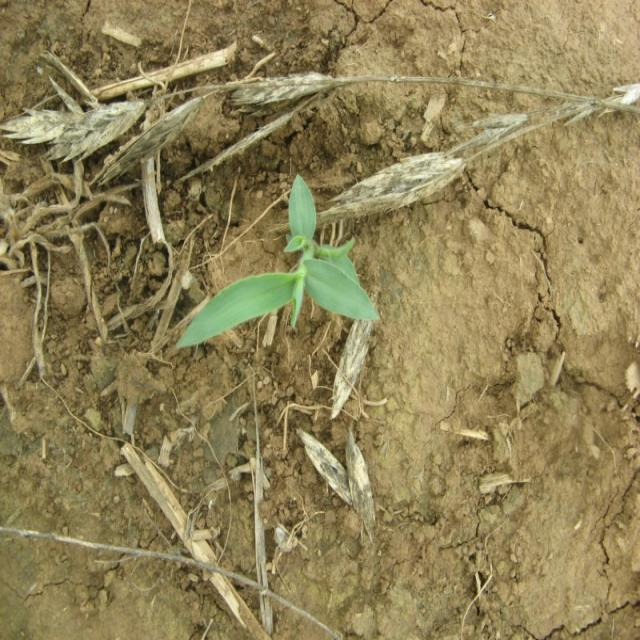bg: (183, 174, 379, 339)
